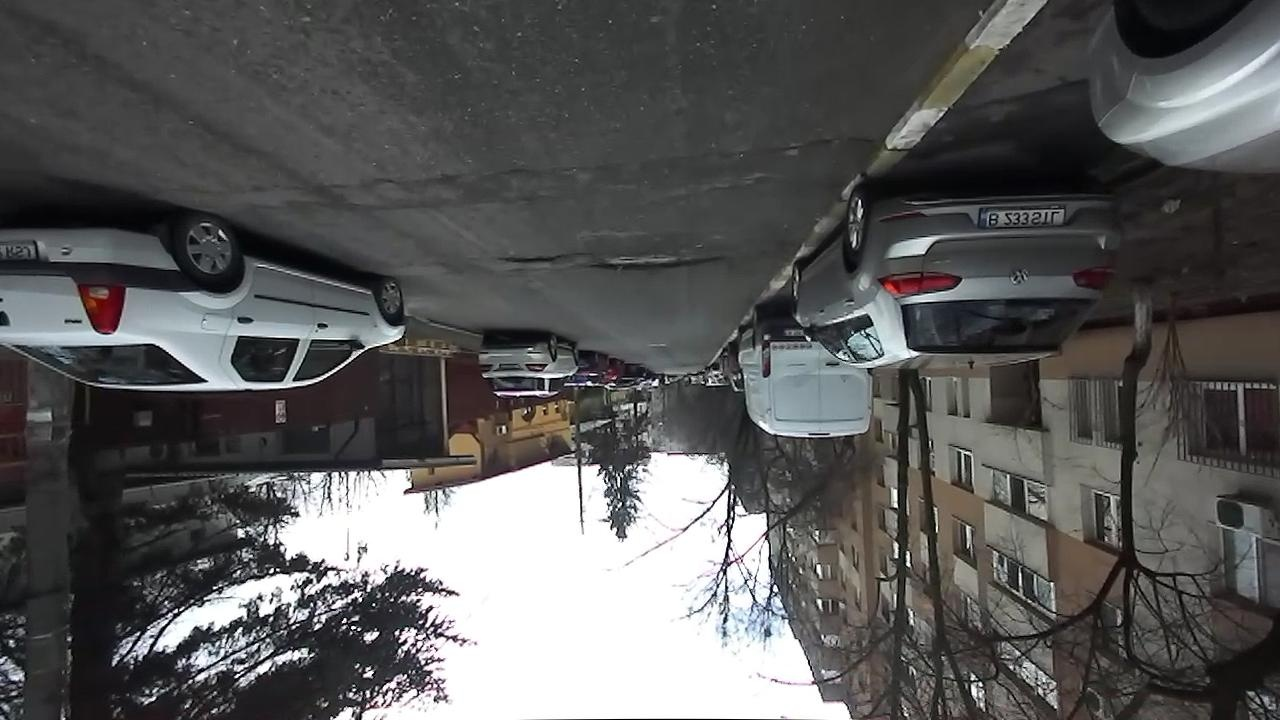pothole: (584, 248, 729, 273), (775, 126, 872, 158), (494, 252, 569, 267)
